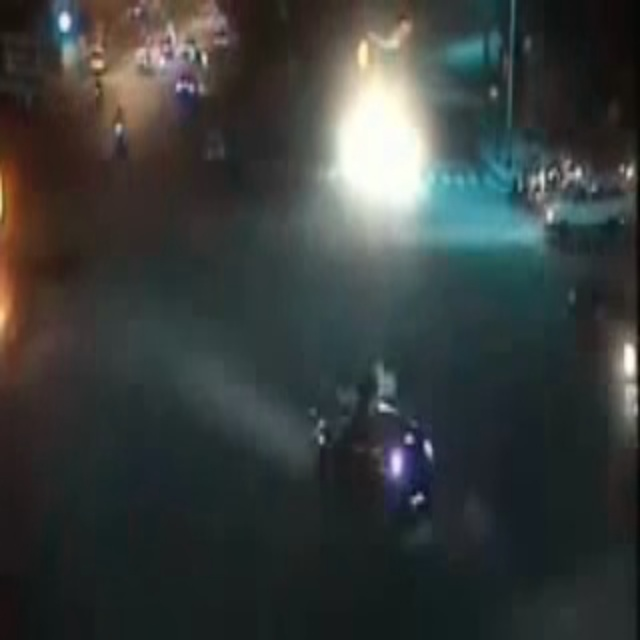acc: (300, 351, 441, 540)
